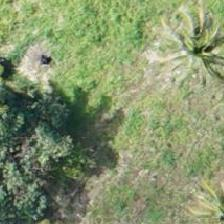coconut_tree: (147, 4, 223, 94)
